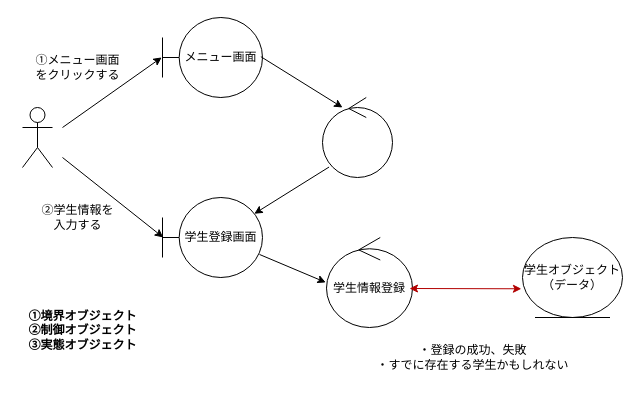
This 640x395 diagram has some shape labels left out. Here are the shapes that lost their labels. From the top down, the centre of each, then its label:
(x=37, y=137): 学生
(x=357, y=137): 表示（する）
